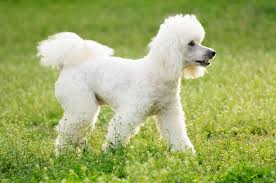Bulldog: (31, 17, 230, 159)
